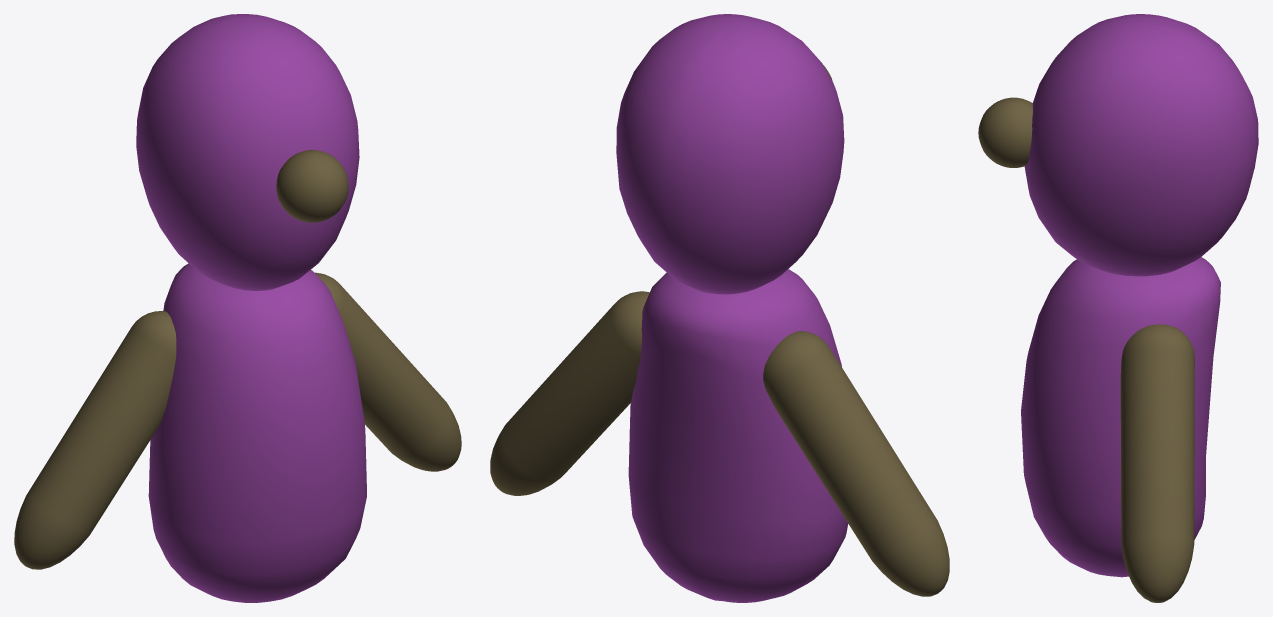
File: SM_Player3VIOLETfbx.fbx
The picture shows the model from 3 angles, left to right: view 1: azimuth 30°, elevation 25°; view 2: azimuth 150°, elevation 25°; view 3: azimuth 270°, elevation 25°; orthographic projection. The views are drawn at different scales.
Visible parts, largest first — view 1: SK_CharacterBase.001, Naso.001; view 2: SK_CharacterBase.001; view 3: SK_CharacterBase.001, Naso.001.
Part boxes in pixels (box(x1,y1,x2,y2)): SK_CharacterBase.001: box(14, 14, 461, 602); Naso.001: box(276, 150, 348, 222); SK_CharacterBase.001: box(490, 14, 949, 602); SK_CharacterBase.001: box(1021, 14, 1258, 602); Naso.001: box(978, 97, 1032, 167).
Bounding box in the file's own units: 115 × 139 × 65.52.
